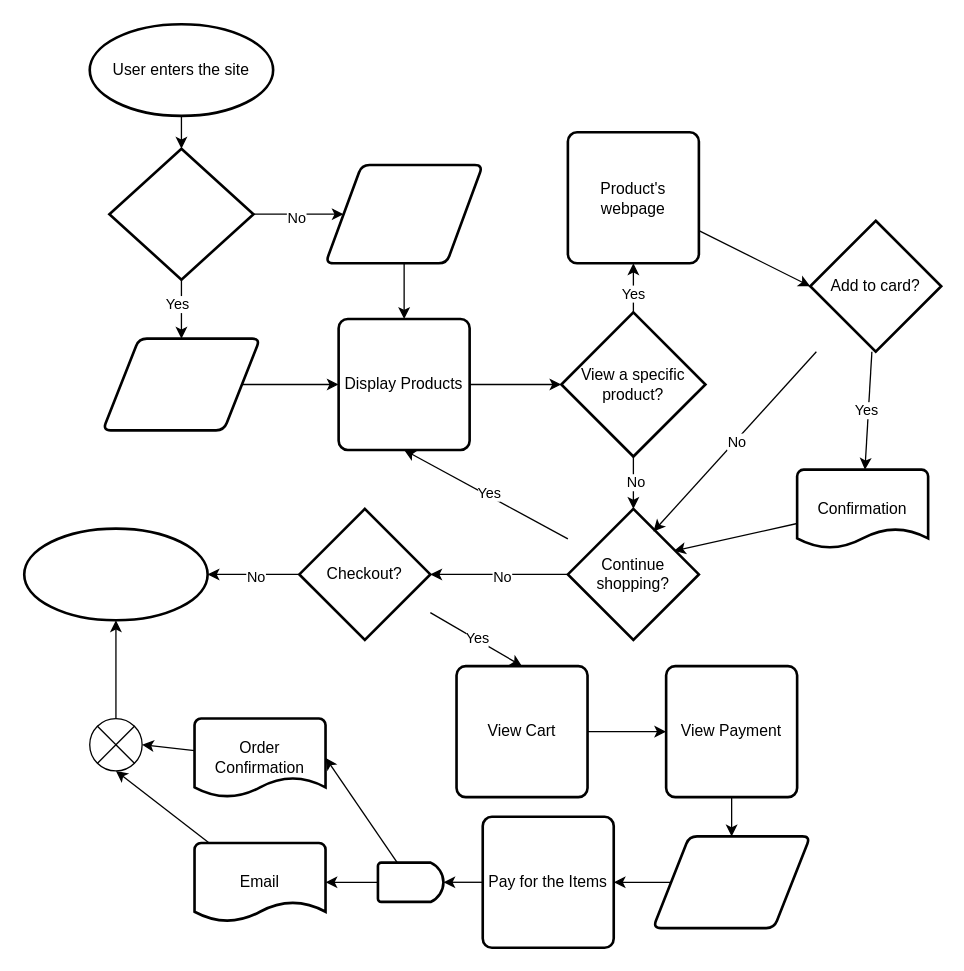
Image size: 964x971. Some labels were removed from this diagram. The centre of each missing label's shape, as x and y in pixels:
Home Page: pixel 403 213
Process payment: pixel 410 882
Search for products?: pixel 180 213
User input: pixel 181 384
User leaves the site: pixel 115 574
User payment info: pixel 731 881
